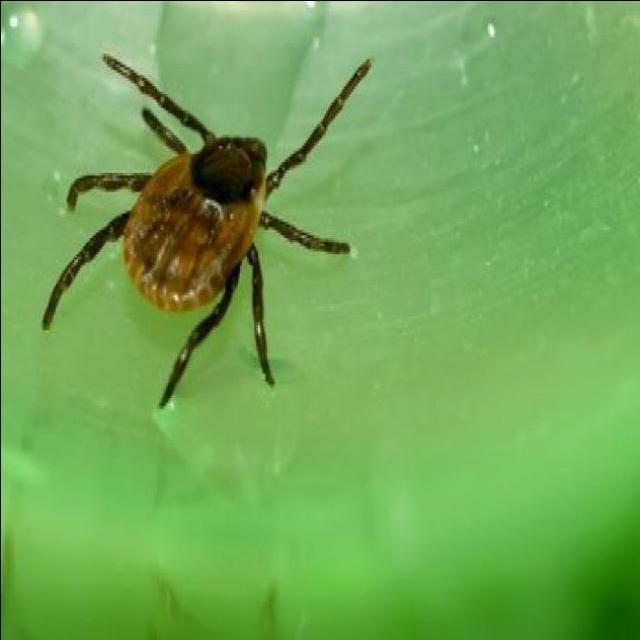Rhipicephalus Sanguineus-F: (42, 55, 373, 402)
